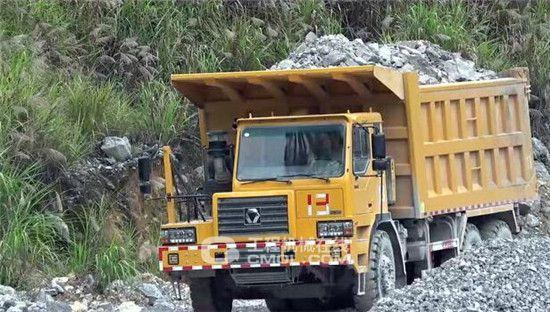truck: (136, 24, 544, 307)
